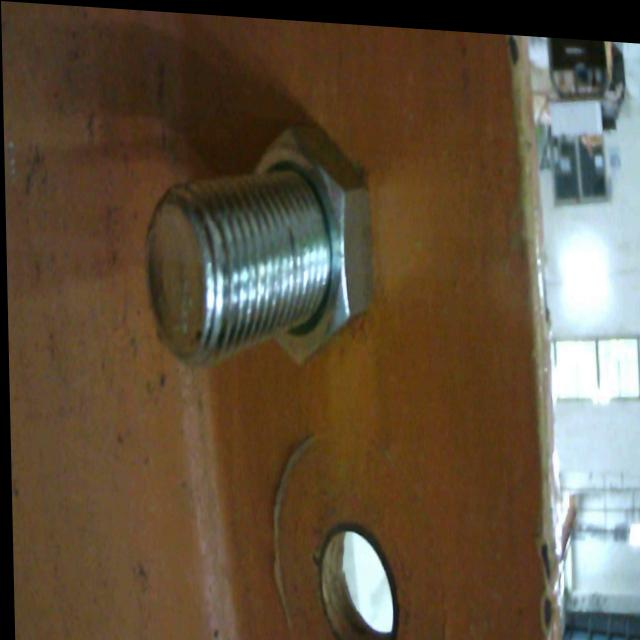Missing bolt: (312, 523, 402, 640)
Regular bolt: (139, 106, 377, 376)
